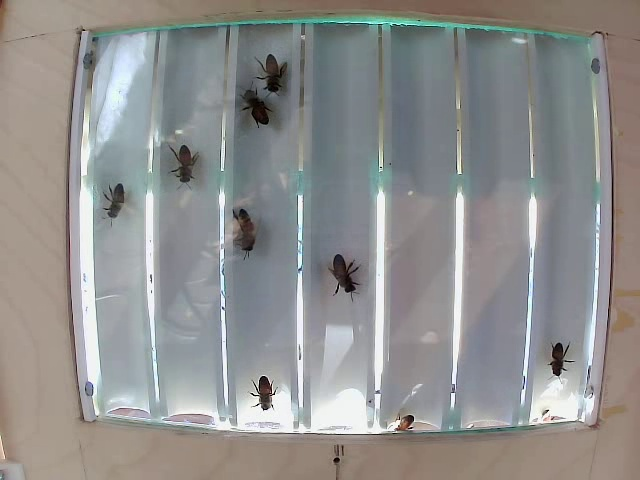bee: (223, 205, 273, 260), (252, 368, 293, 417), (95, 185, 139, 230), (163, 140, 202, 183), (322, 250, 358, 295), (542, 333, 579, 376), (261, 60, 285, 97), (234, 89, 257, 123)
